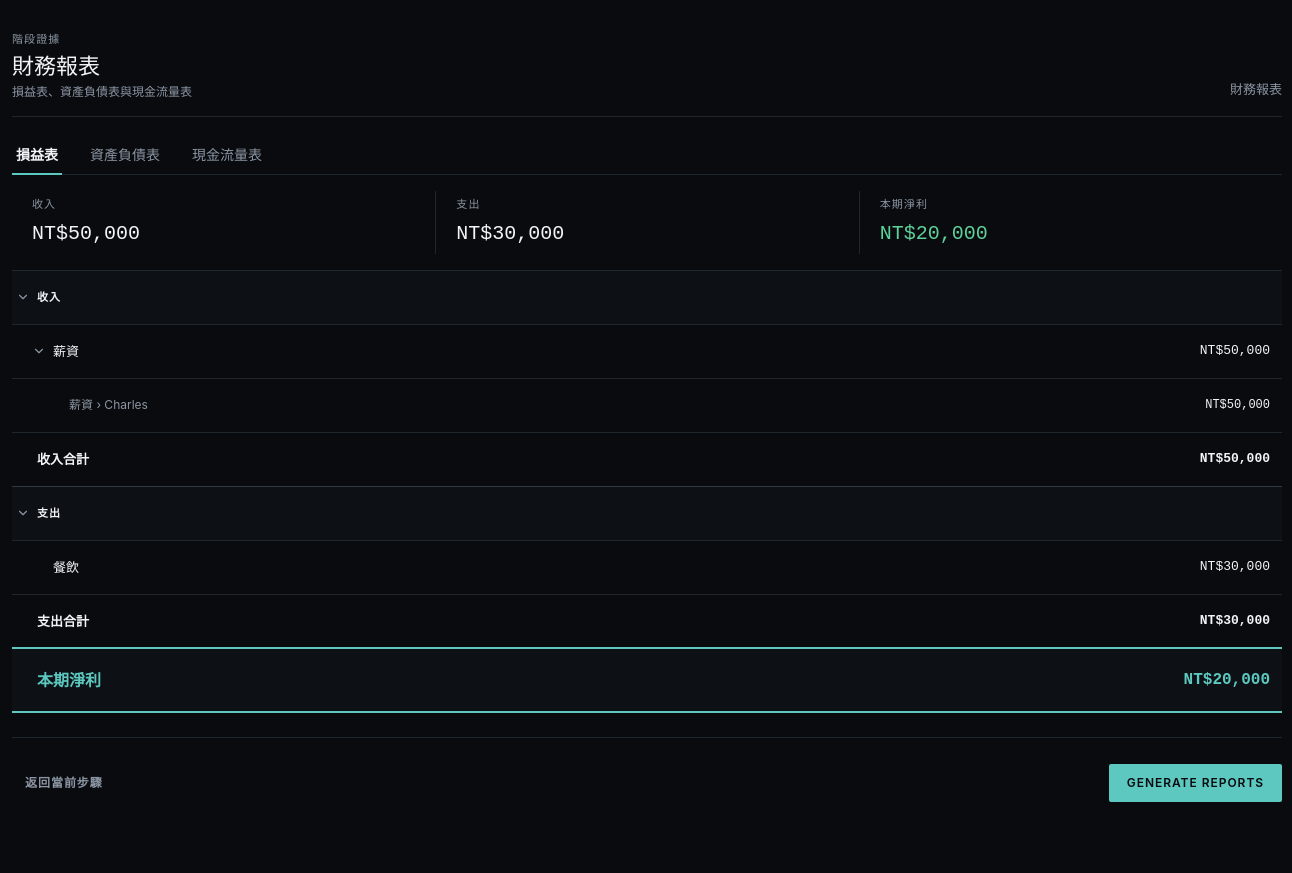
Test case: CloseFinancialReports › resets collapsed groups when switching statement tabs
The width and height of the screenshot is (1292, 873).
Step 1. Click the button named "薪資" → (39, 351), box x1=29 y1=341 x2=49 y2=361
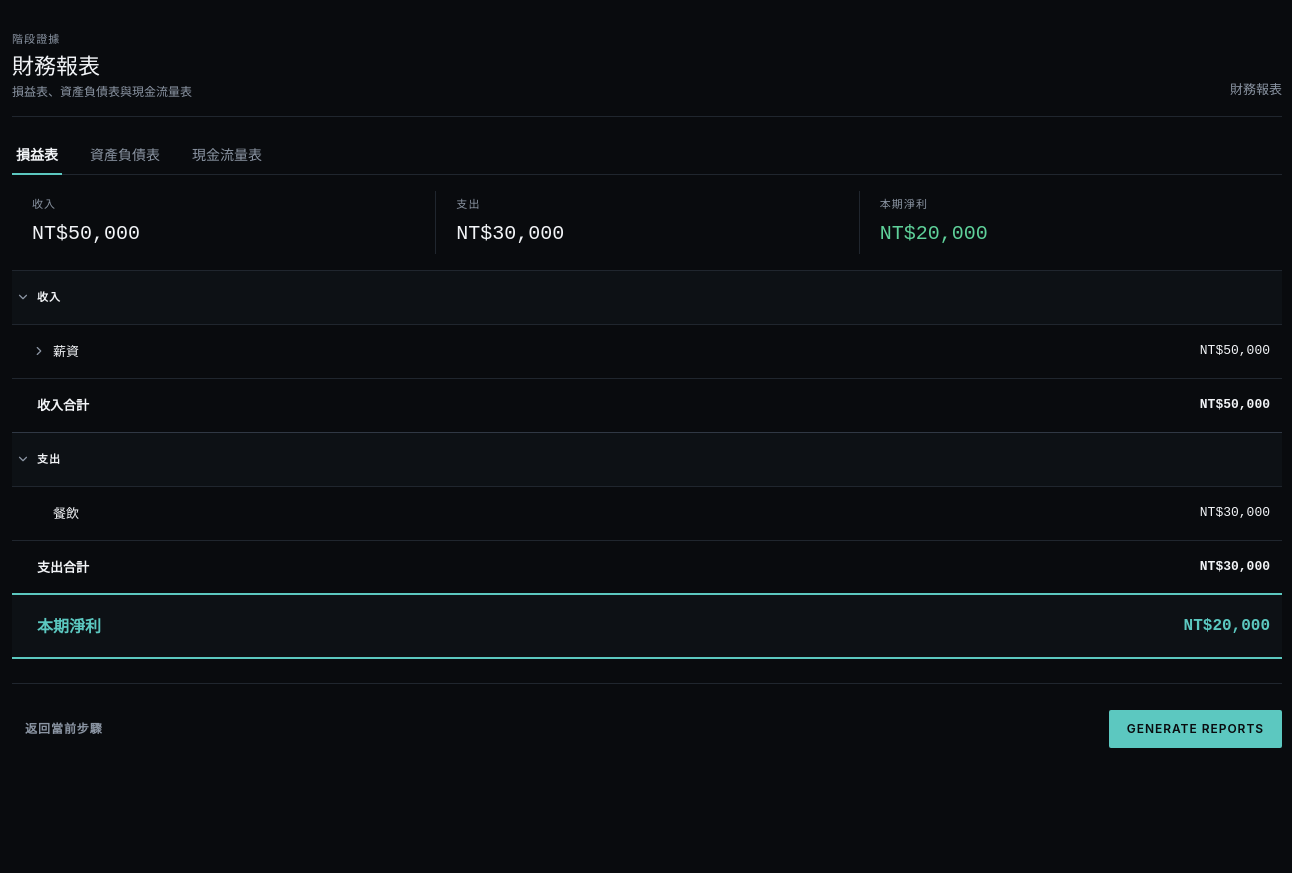
Now the element with test id "close-income-statement" no longer shows "薪資 › Charles", box x1=12 y1=191 x2=1282 y2=659
Step 2. Press the mouse on the tab "資產負債表" → (125, 158), box x1=86 y1=141 x2=164 y2=175
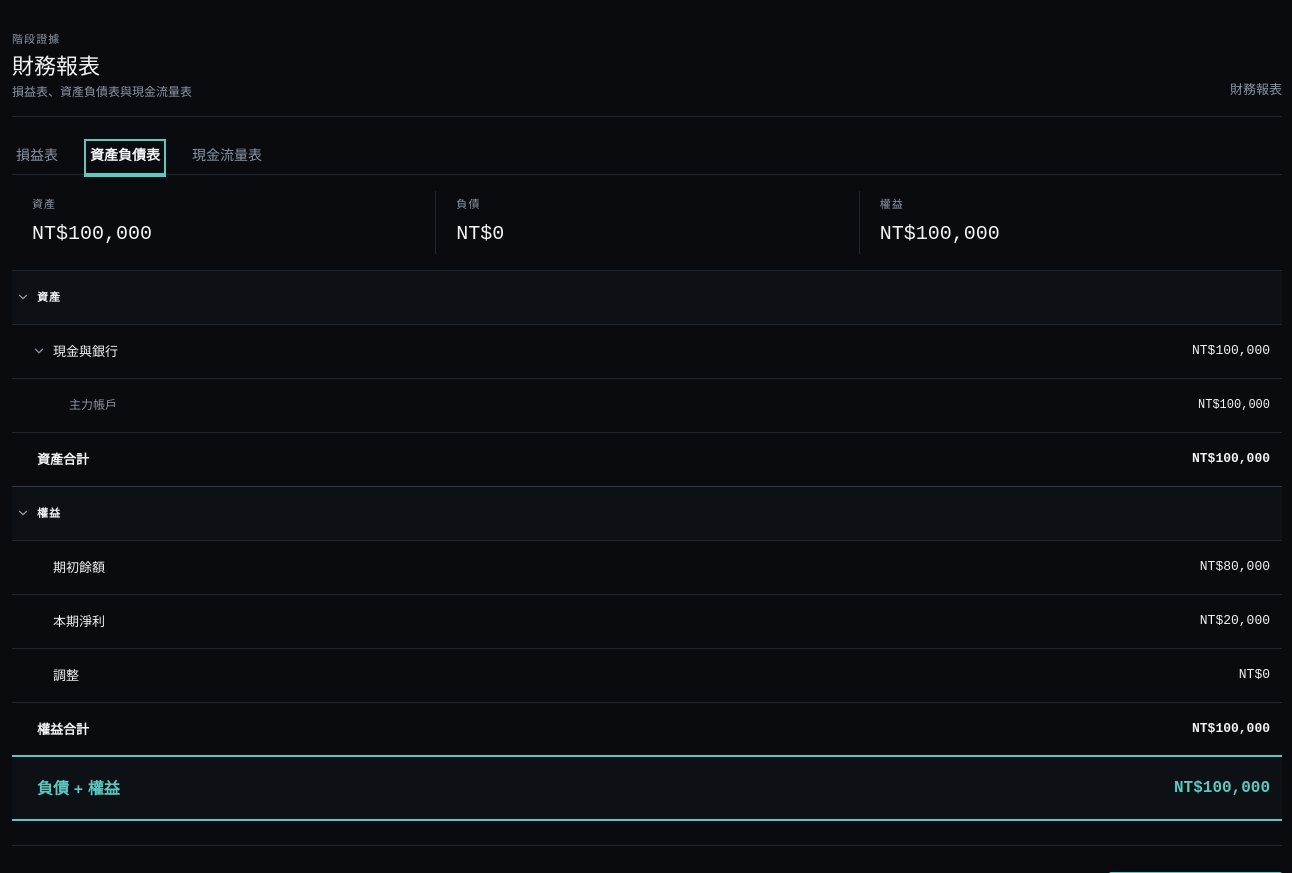
Step 3. Press the mouse on the tab "損益表" → (37, 158), box x1=12 y1=141 x2=62 y2=175
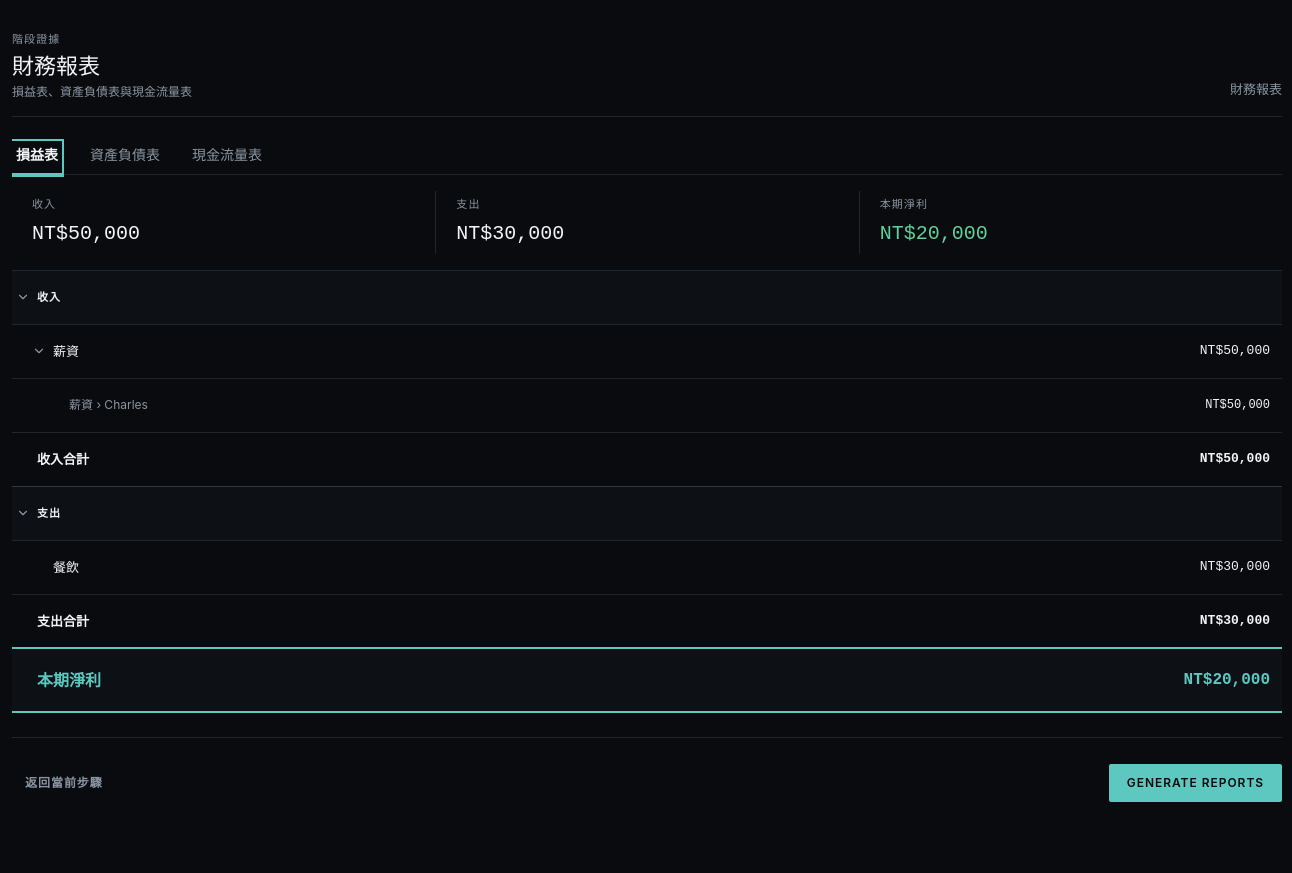
Now the element with test id "close-income-statement" shows "薪資 › Charles", box x1=69 y1=397 x2=148 y2=412
